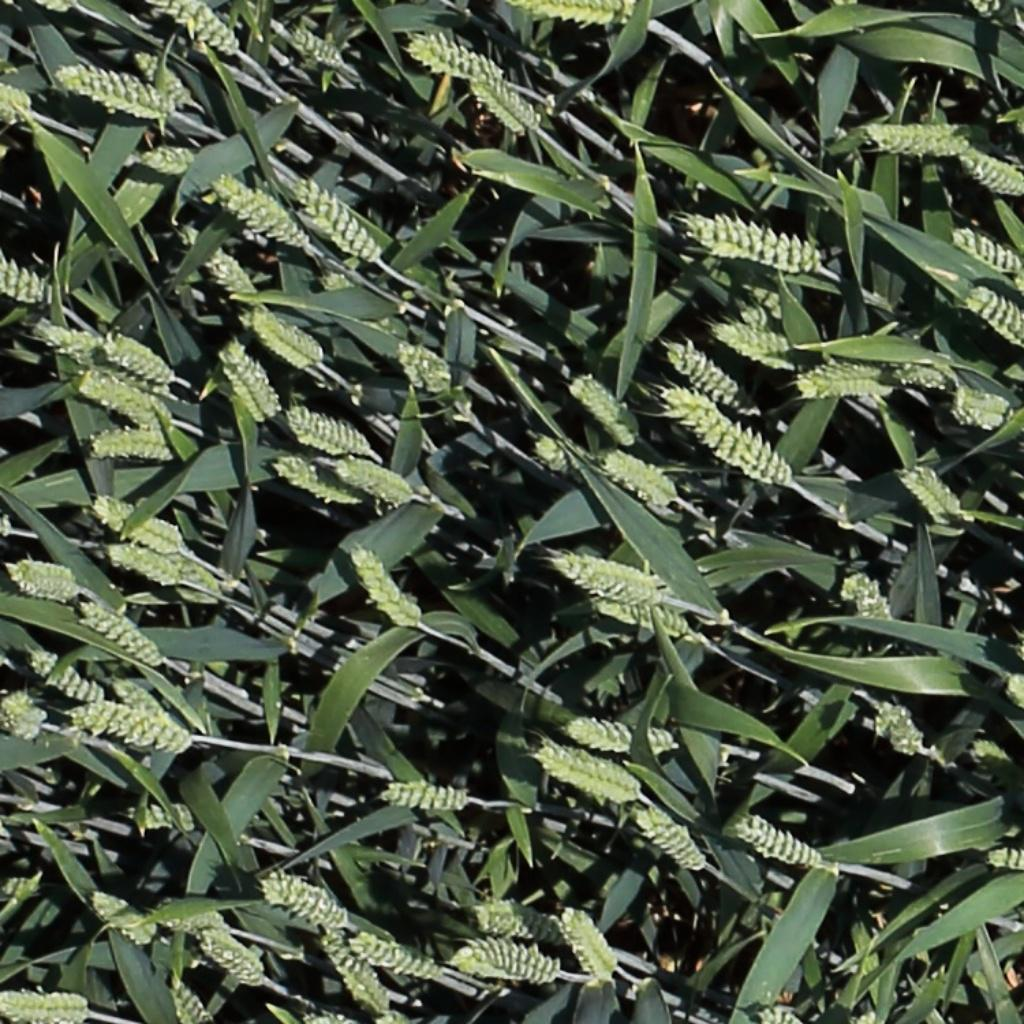0-0: (670, 391, 790, 484), (293, 174, 383, 260), (84, 323, 192, 391), (667, 339, 760, 416), (212, 172, 308, 245), (318, 922, 391, 1018), (689, 215, 820, 268), (545, 543, 659, 603), (349, 544, 424, 632), (509, 0, 659, 38), (79, 600, 162, 666), (558, 903, 623, 987), (55, 68, 172, 114), (111, 677, 187, 746), (542, 748, 641, 800), (218, 339, 277, 424), (72, 707, 182, 752), (634, 809, 708, 875), (94, 499, 182, 554), (155, 0, 243, 54), (570, 372, 636, 442), (885, 335, 960, 396), (156, 551, 229, 612), (248, 307, 322, 367), (408, 36, 506, 81), (27, 649, 105, 705), (737, 820, 824, 869), (76, 371, 164, 419), (471, 72, 537, 135), (351, 939, 443, 984), (264, 880, 349, 928), (864, 114, 971, 152), (288, 408, 372, 456), (274, 458, 359, 505), (132, 45, 196, 106), (88, 890, 158, 944), (604, 453, 681, 502), (569, 722, 678, 756), (963, 285, 1024, 345), (598, 600, 693, 638), (199, 932, 266, 985), (460, 946, 562, 980), (1, 985, 89, 1024), (486, 905, 568, 946), (715, 324, 792, 366), (951, 225, 1021, 271), (338, 461, 416, 502), (792, 364, 885, 398), (106, 546, 187, 585), (88, 423, 178, 458), (206, 245, 262, 301), (30, 317, 92, 366), (899, 466, 957, 518), (876, 701, 927, 760), (0, 238, 47, 301), (734, 282, 782, 340), (14, 558, 77, 600), (961, 149, 1022, 191), (165, 970, 211, 1024), (533, 431, 580, 481), (161, 903, 235, 934), (398, 342, 451, 385), (292, 27, 346, 68), (951, 387, 1008, 423), (0, 703, 46, 741), (385, 789, 468, 809), (744, 997, 800, 1024), (139, 148, 197, 170), (0, 80, 24, 114), (972, 735, 1000, 763), (987, 853, 1024, 872)
